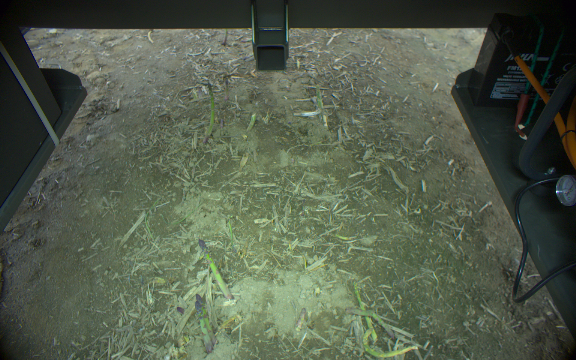aspa: (197, 237, 234, 302), (362, 326, 417, 360), (350, 277, 377, 344), (347, 304, 394, 338), (193, 293, 218, 347), (201, 82, 216, 145), (193, 300, 210, 355), (315, 82, 324, 113), (223, 75, 231, 102), (247, 113, 256, 131)
